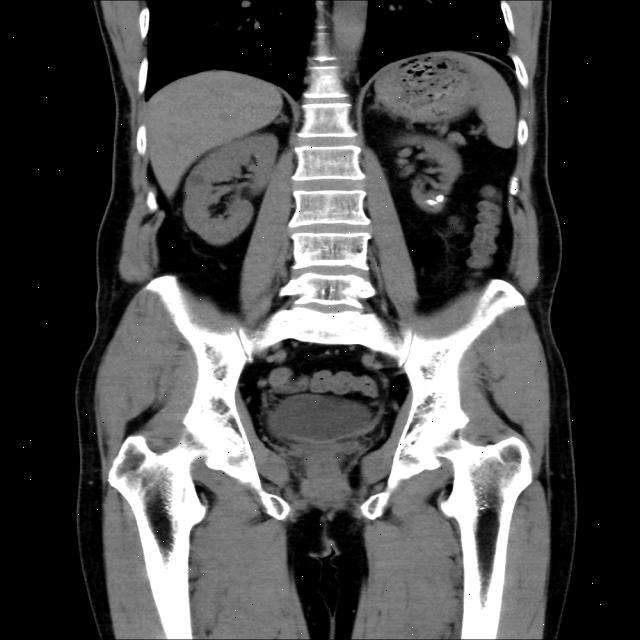kidneystone: (426, 199, 437, 206), (437, 195, 443, 202)
